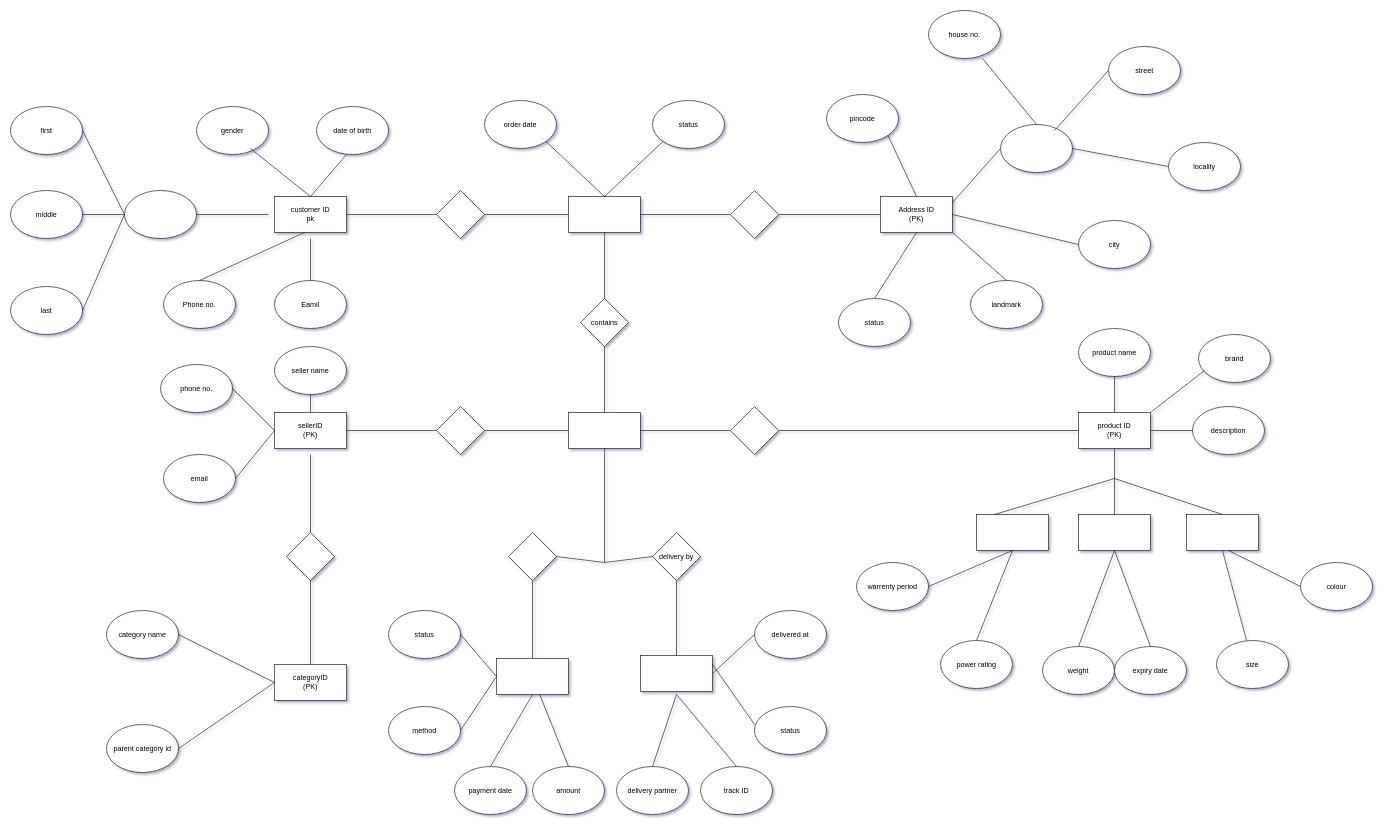
Some shapes in this 1387 by 829 pixel diagram are drawn without their labels. The centre of each missing label's shape, as x and y in pixels:
"address lines" goes at [1036,148].
"belongs" goes at [310,556].
"Delivery ID (PK)" goes at [676,673].
"electronics PK fK (product id)" goes at [1012,532].
"fashion PK fK (product id)" goes at [1222,532].
"gorcery PK fK (product id)" goes at [1114,532].
"lists" goes at [460,430].
"name" goes at [160,214].
"order (PK) ID" goes at [604,214].
"Order Item(weak entity) PK fK(order id) PK( order no.)" goes at [604,430].
"paid by" goes at [532,556].
"payment ID (PK)" goes at [532,676].
"places" goes at [460,214].
"referances" goes at [754,430].
"user" goes at [754,214].
